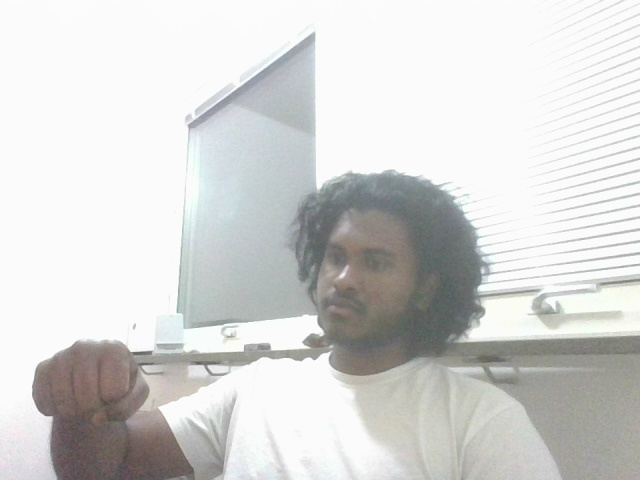Yes: (17, 337, 156, 432)
